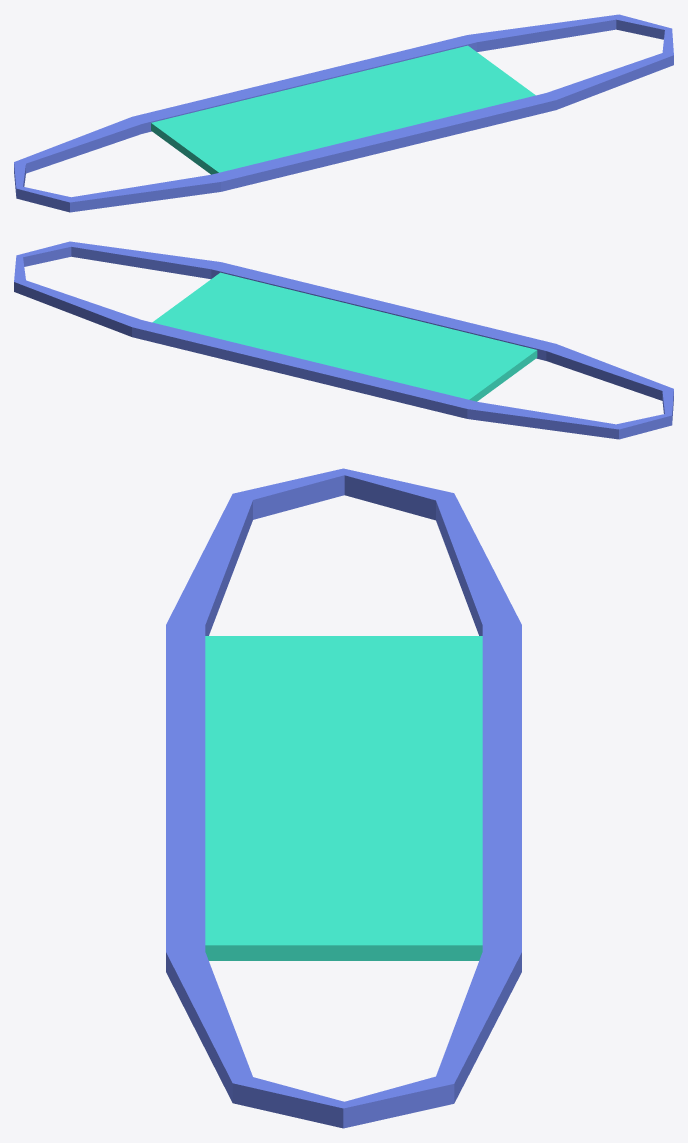
Rendered from 5 mask.fbx.
3 renders of one model, top to bottom at view 1: azimuth 30°, elevation 25°; view 2: azimuth 150°, elevation 25°; view 3: azimuth 270°, elevation 25°, orthographic. The views are drawn at different scales.
Parts seen in each view (by area): view 1: 5 mask; view 2: 5 mask; view 3: 5 mask.
Part boxes in pixels (x1,y1,x2,y2): 5 mask: [14, 14, 673, 212]; 5 mask: [14, 241, 673, 439]; 5 mask: [166, 468, 521, 1128].
Bounding box in the file's own units: 22.22 × 0.3236 × 5.22.
